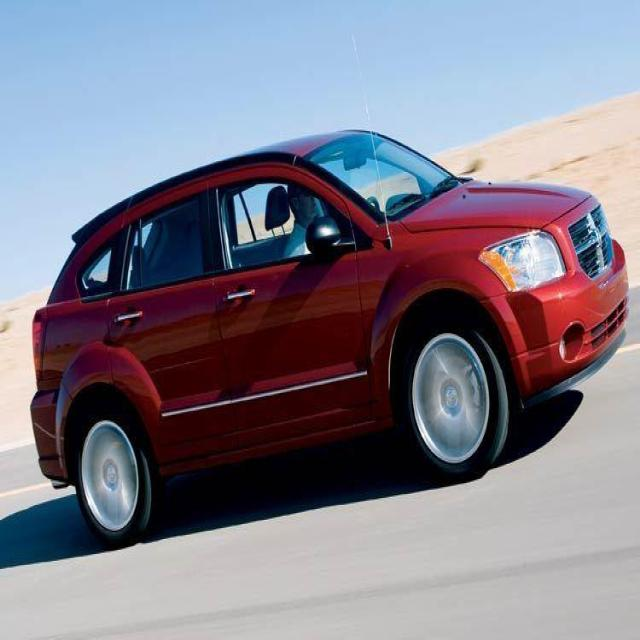Car: (14, 132, 624, 515)
